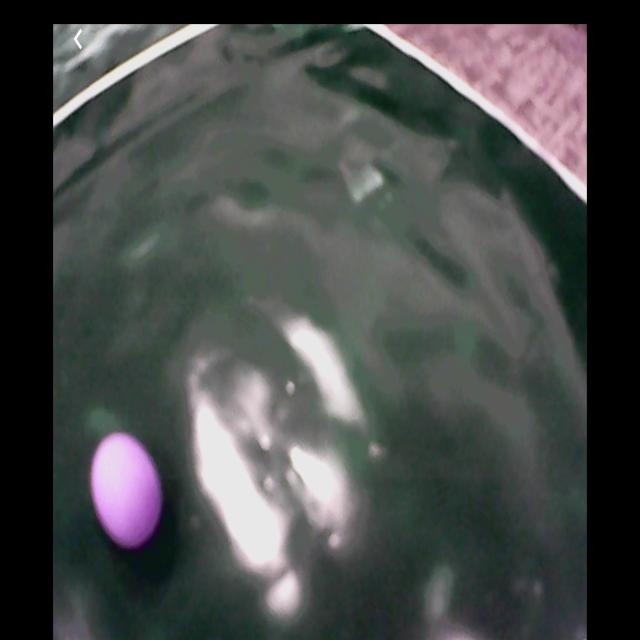ball: (92, 433, 163, 554)
